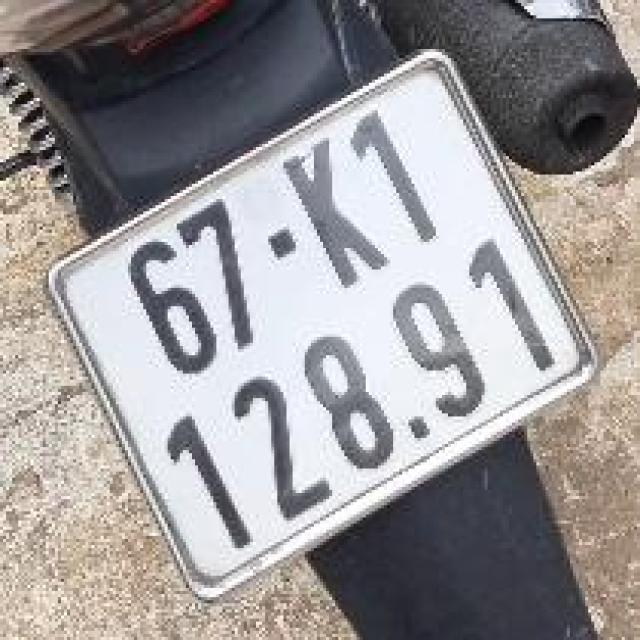1: (329, 95, 456, 259), (449, 222, 574, 387), (144, 400, 269, 564)
2: (212, 353, 345, 535)
6: (114, 229, 228, 391)
7: (162, 187, 287, 364)
8: (284, 315, 413, 490)
9: (368, 265, 504, 436)
K: (259, 130, 405, 304)
